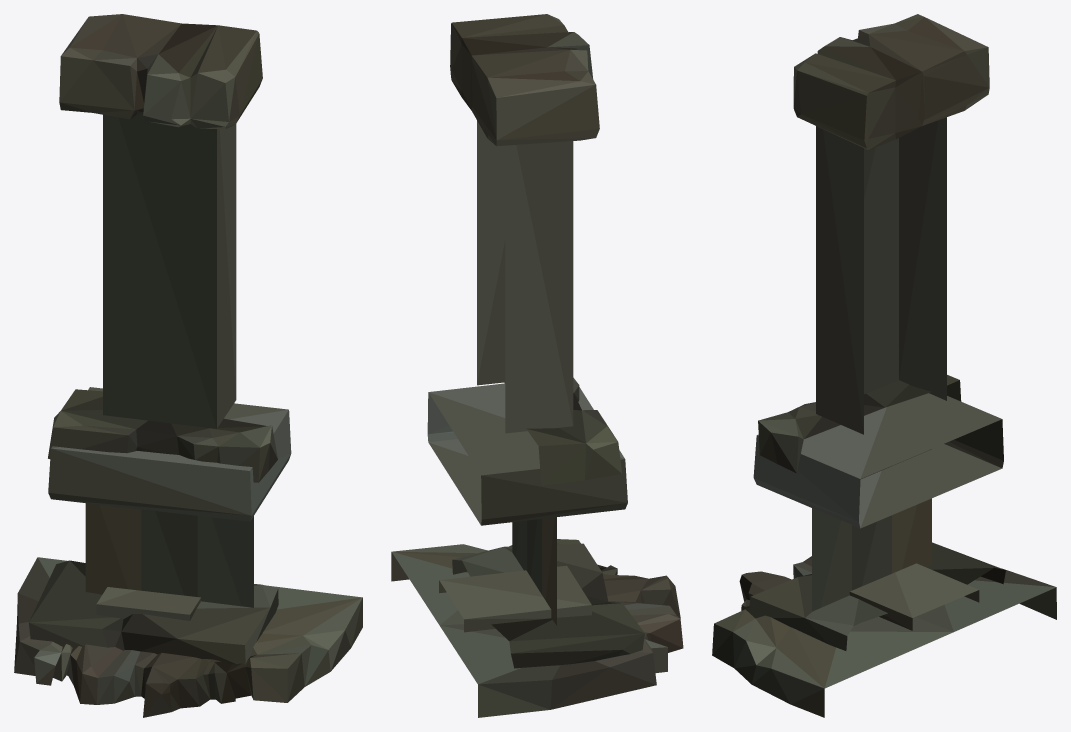
The model's file is wall_B_corner_inside1.fbx.
3 views of the same model, side by side, from view 1: azimuth 30°, elevation 25°; view 2: azimuth 150°, elevation 25°; view 3: azimuth 270°, elevation 25° (orthographic). The views are drawn at different scales.
Parts seen in each view (by area): view 1: wall_B_corner_inside1; view 2: wall_B_corner_inside1; view 3: wall_B_corner_inside1.
Boxes of the visible parts, bbox=[...] form: wall_B_corner_inside1: bbox=[14, 14, 362, 717]; wall_B_corner_inside1: bbox=[391, 14, 683, 717]; wall_B_corner_inside1: bbox=[712, 14, 1056, 717].
Size of the model in its own units: 3.41 by 6.38 by 3.39.
